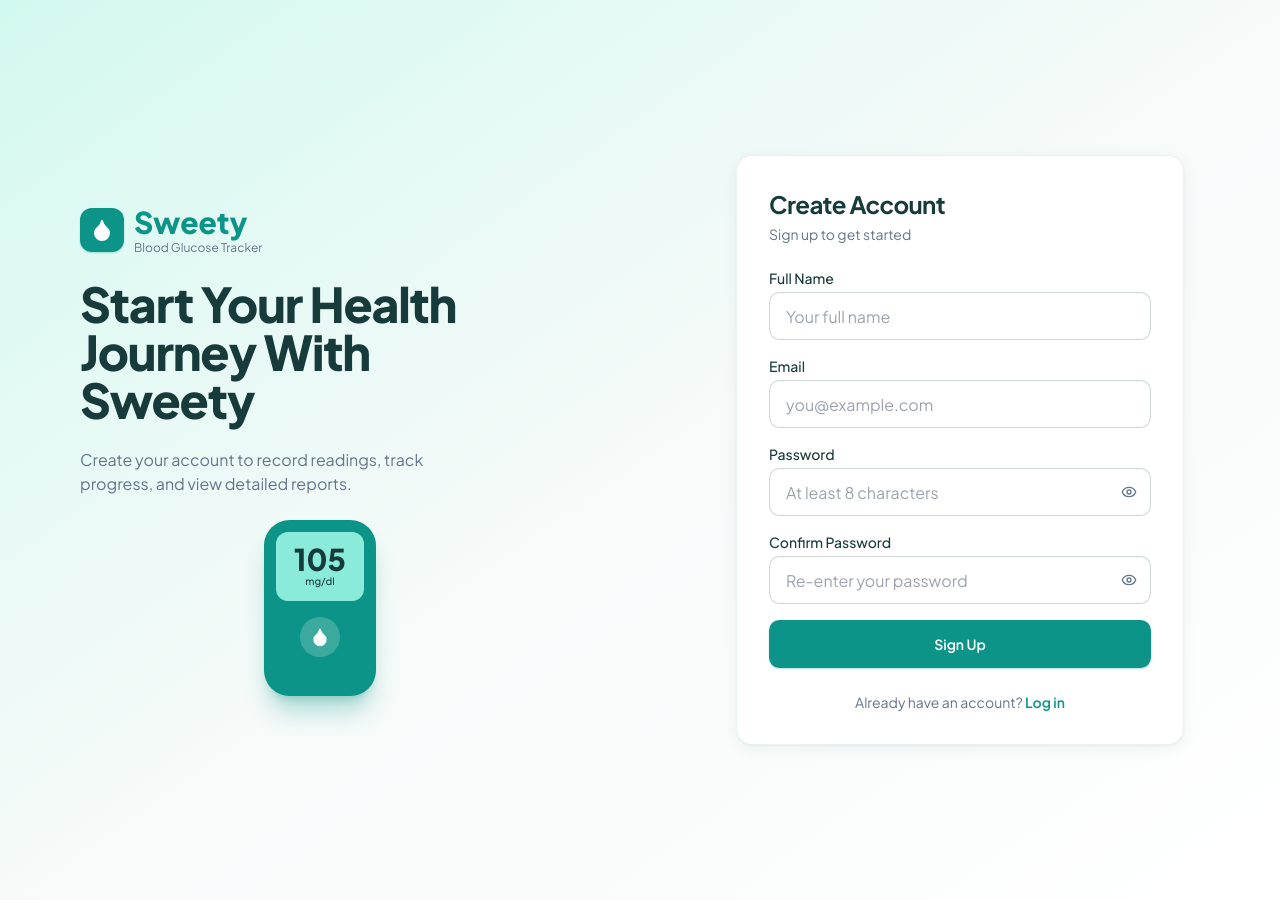
Scenario: Register page › validates every field
Click the button "Sign Up" at (960, 644), box [769, 620, 1151, 668]
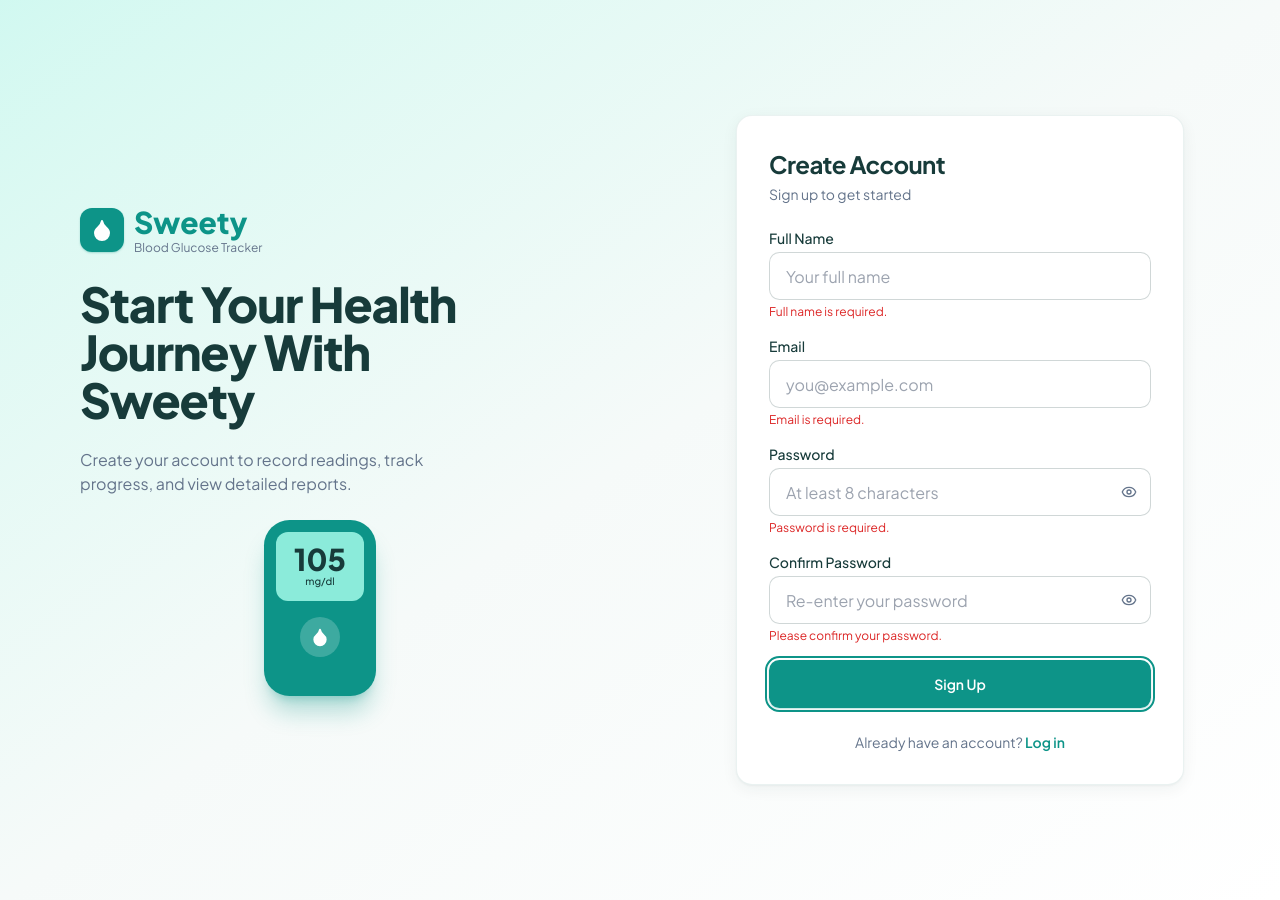
Now the text "Full name is required." is shown, box [769, 304, 887, 319]
Now the text "Email is required." is shown, box [769, 412, 864, 427]
Now the text "Password is required." is shown, box [769, 520, 889, 535]
